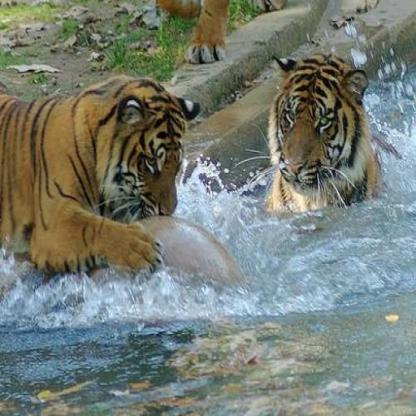Tiger: (0, 61, 196, 298), (258, 40, 386, 220)
